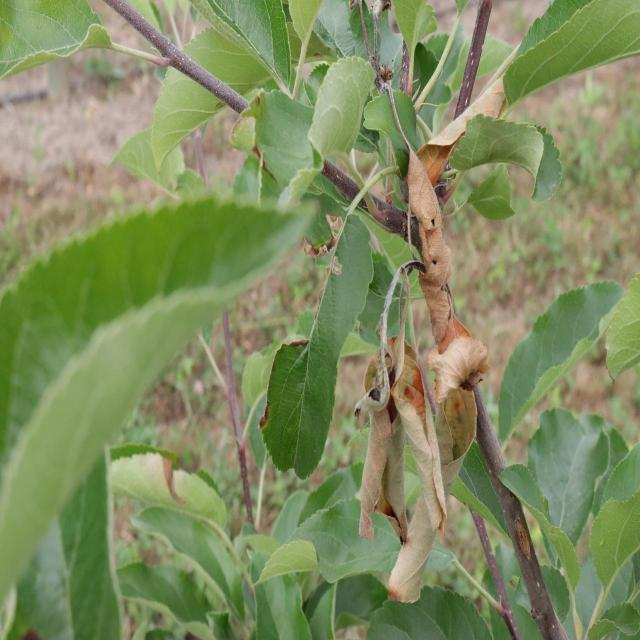-FireBlight-: (350, 72, 513, 614)
